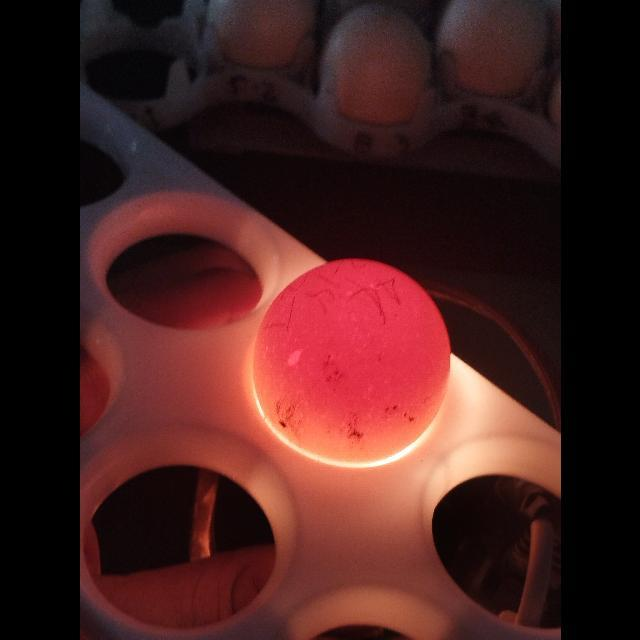Infertile: (249, 256, 459, 468)
